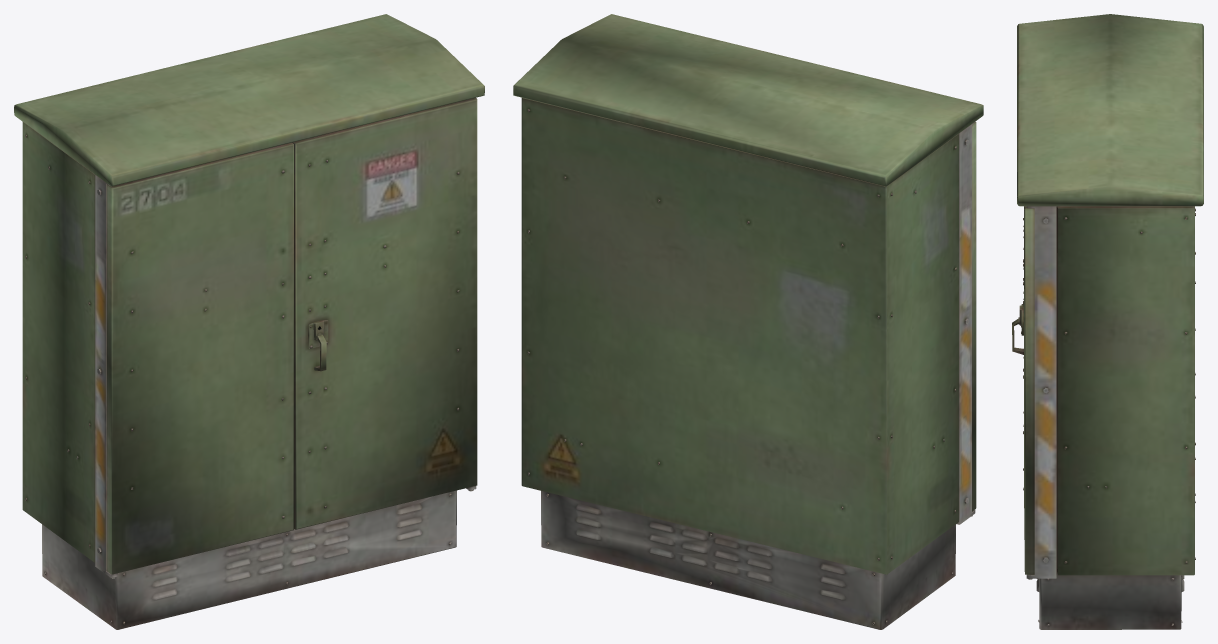
File: utility_box_02.glb
3 renders of one model, left to right at view 1: azimuth 30°, elevation 25°; view 2: azimuth 150°, elevation 25°; view 3: azimuth 270°, elevation 25°, orthographic. The views are drawn at different scales.
Visible parts, largest first — view 1: utility_box_02; view 2: utility_box_02; view 3: utility_box_02.
Part boxes in pixels (x1,y1,x2,y2): utility_box_02: [14, 14, 484, 629]; utility_box_02: [513, 14, 983, 629]; utility_box_02: [1012, 14, 1203, 629].
Size of the model in its own units: 0.92 by 1.12 by 0.4312.
Materials: 1 (1 with a texture image).
